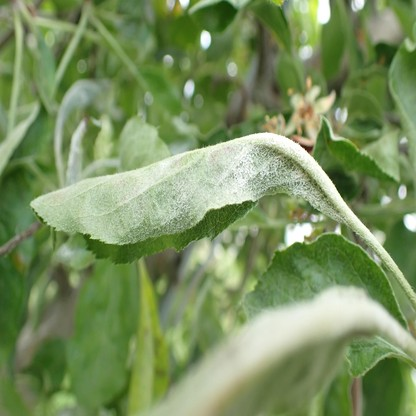powder: (29, 131, 349, 264), (295, 258, 344, 295), (260, 273, 292, 306), (244, 293, 258, 319)
